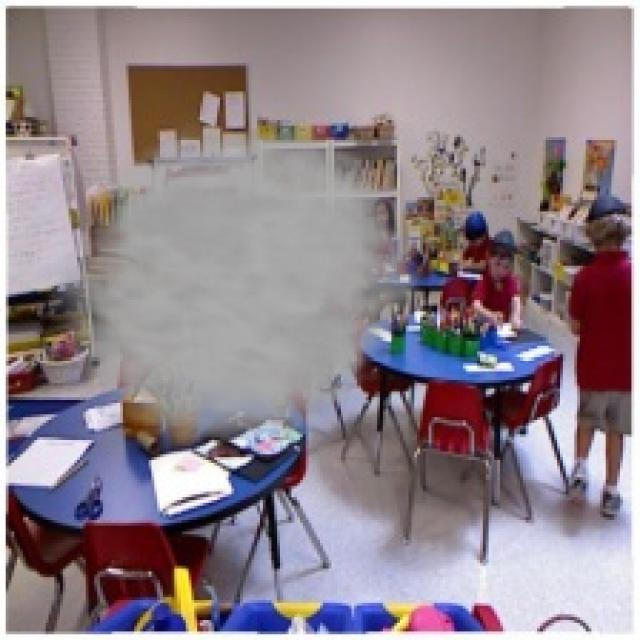smoke: (37, 109, 434, 452)
